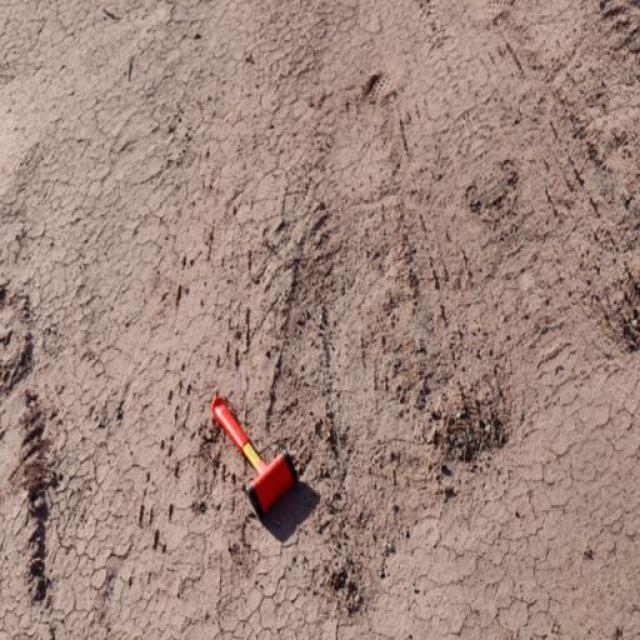mallet: (208, 394, 298, 516)
